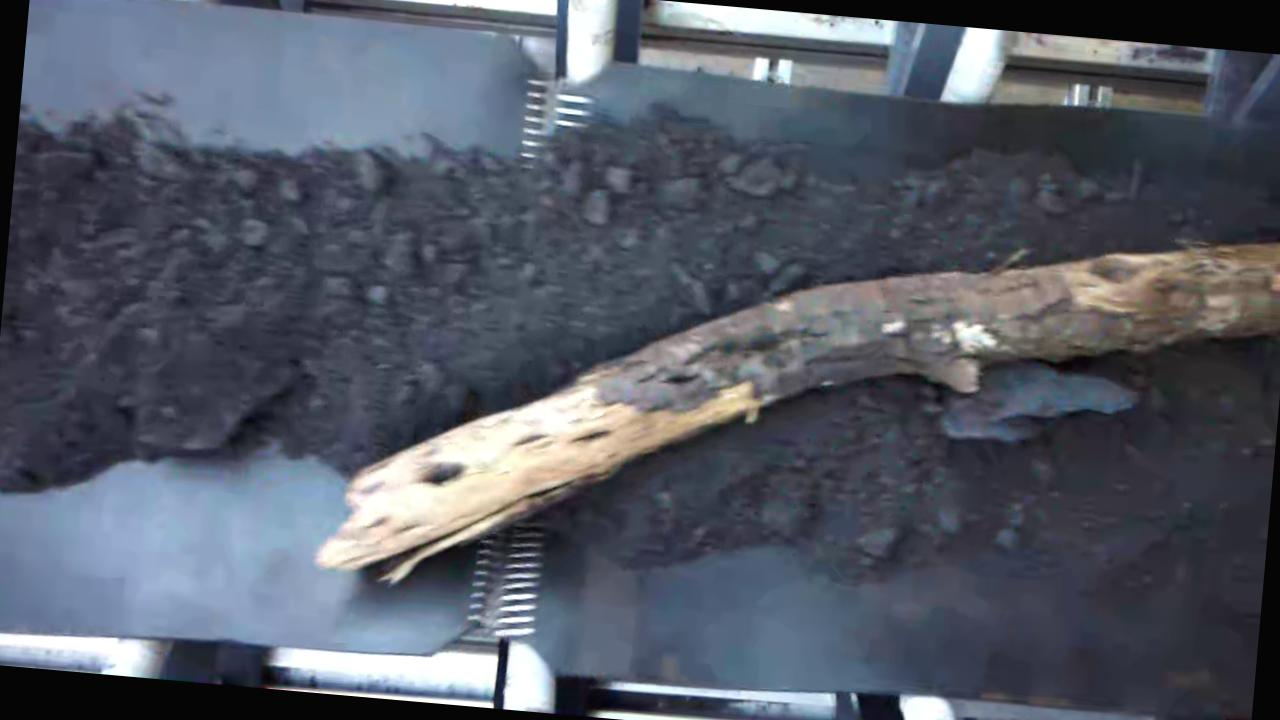conveyor: (0, 18, 1280, 716)
